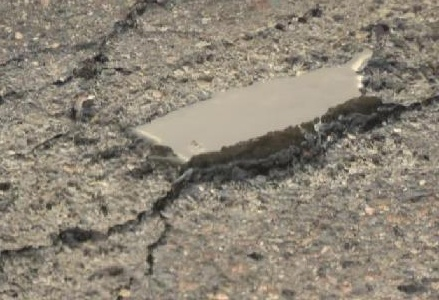pothole: (111, 41, 418, 192)
